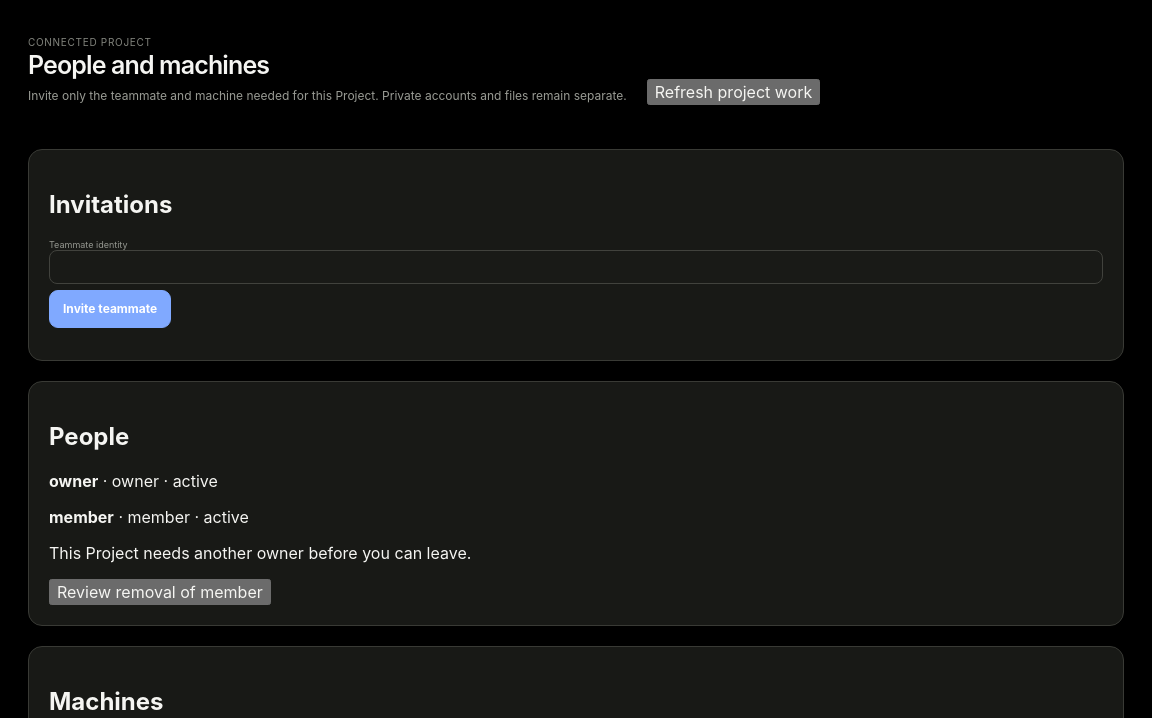
Test: PROJECT-MEMBER-REMOVAL-1: normal People panel reviews exact member and revision before one removal
What coordinates should you click on to do the following:
click the button "Review removal of member"
I would click on:
 (160, 592)
Its box is [49, 579, 271, 605].
(page scrolled)
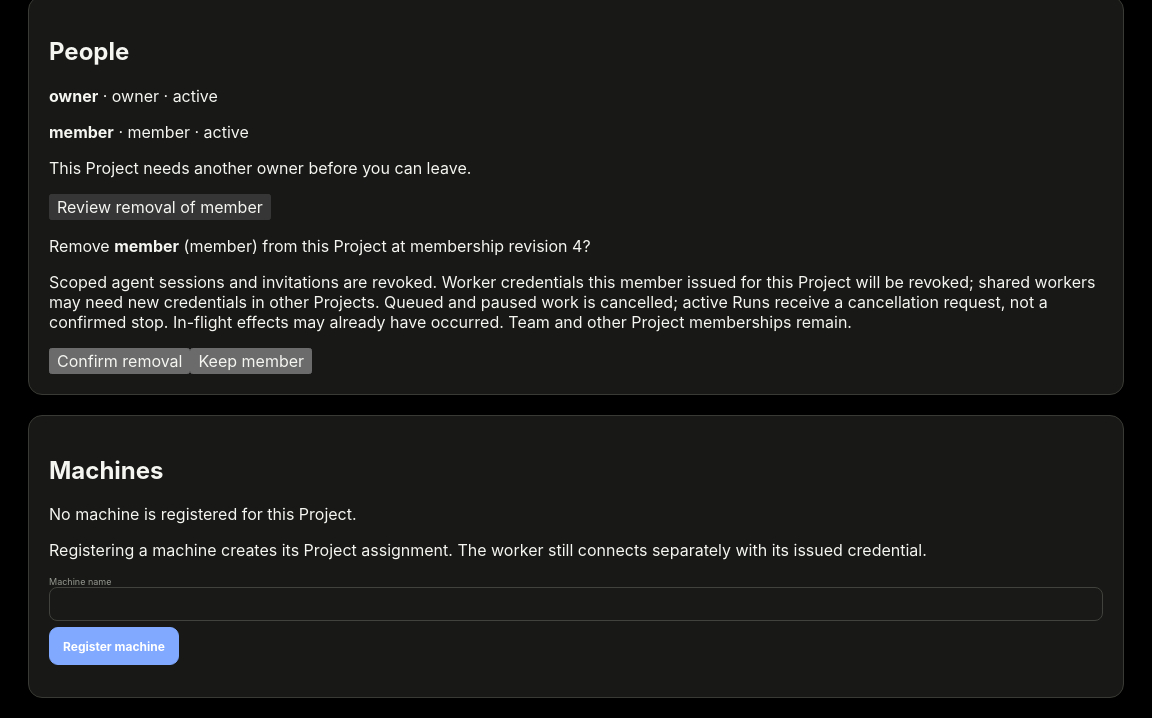
What coordinates should you click on to do the following:
click the button "Confirm removal"
I would click on:
 (120, 361)
Its box is [49, 348, 190, 374].
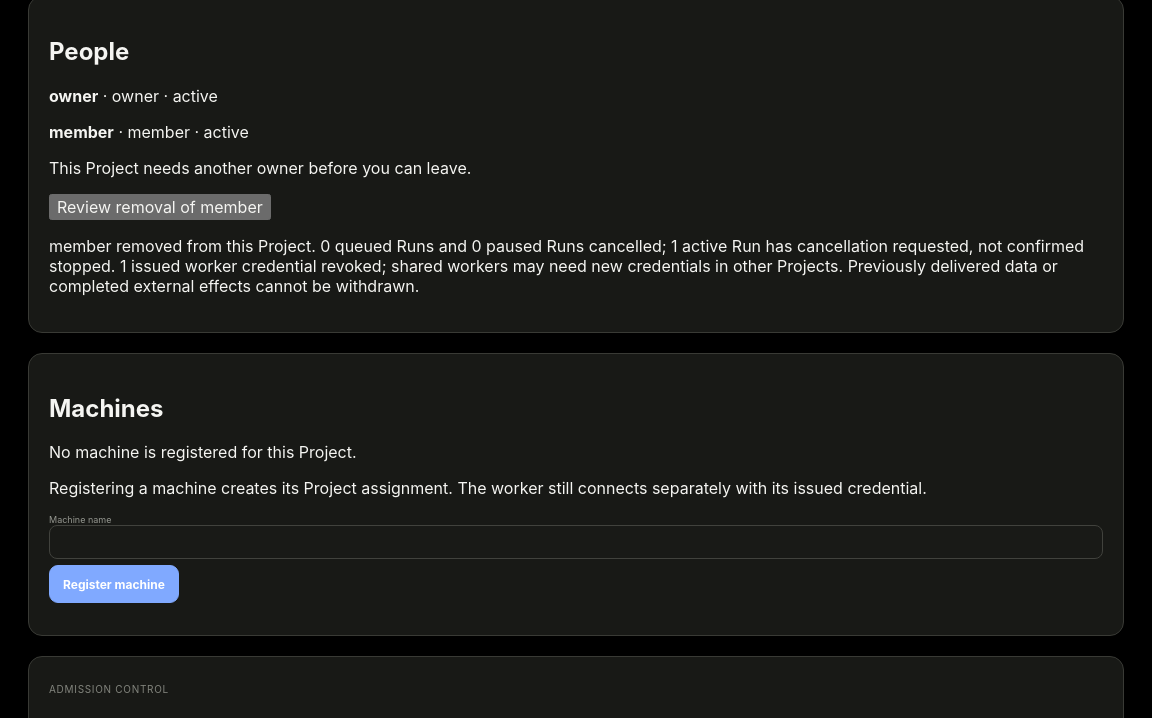
Expected: the message shows "1 active Run has cancellation requested", [49, 236, 1103, 296]
